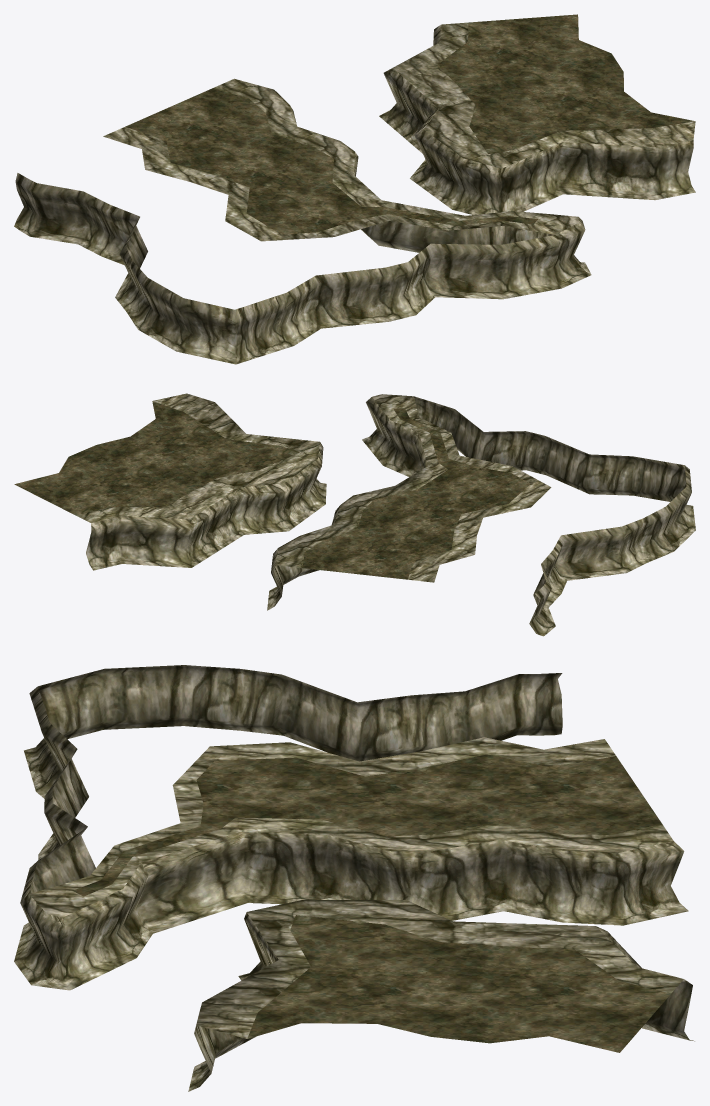
File: CB_NEWPLAYSURFACE_CB_PLAYSURFACE89.fbx
3 renders of one model, top to bottom at view 1: azimuth 30°, elevation 25°; view 2: azimuth 150°, elevation 25°; view 3: azimuth 270°, elevation 25°, orthographic. The views are drawn at different scales.
Visible parts, largest first — view 1: CB_NEWPLAYSURFACE_CB_PLAYSURFACE89; view 2: CB_NEWPLAYSURFACE_CB_PLAYSURFACE89; view 3: CB_NEWPLAYSURFACE_CB_PLAYSURFACE89.
Boxes of the visible parts, box(x1,y1,x2,y2) form: CB_NEWPLAYSURFACE_CB_PLAYSURFACE89: box(14, 14, 695, 364); CB_NEWPLAYSURFACE_CB_PLAYSURFACE89: box(14, 393, 695, 636); CB_NEWPLAYSURFACE_CB_PLAYSURFACE89: box(14, 665, 694, 1091).
Size of the model in its own units: 446390 by 35822 by 326329.
Materials: 3 (3 with a texture image).
